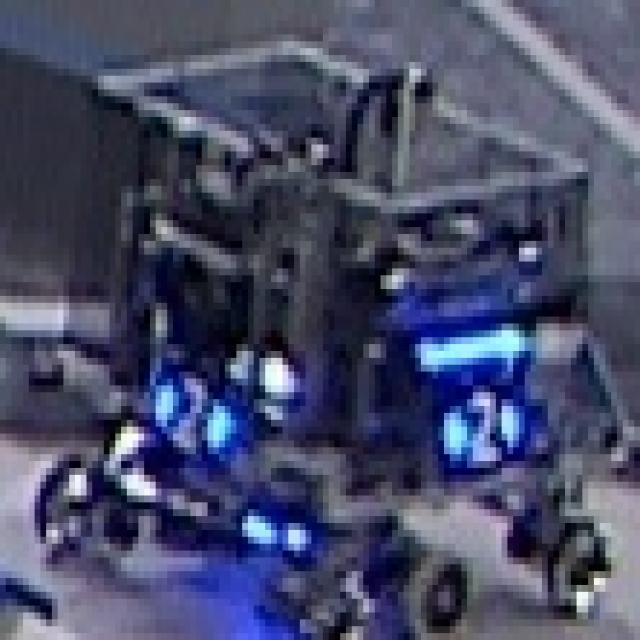B2: (150, 365, 236, 461), (438, 385, 525, 468)
